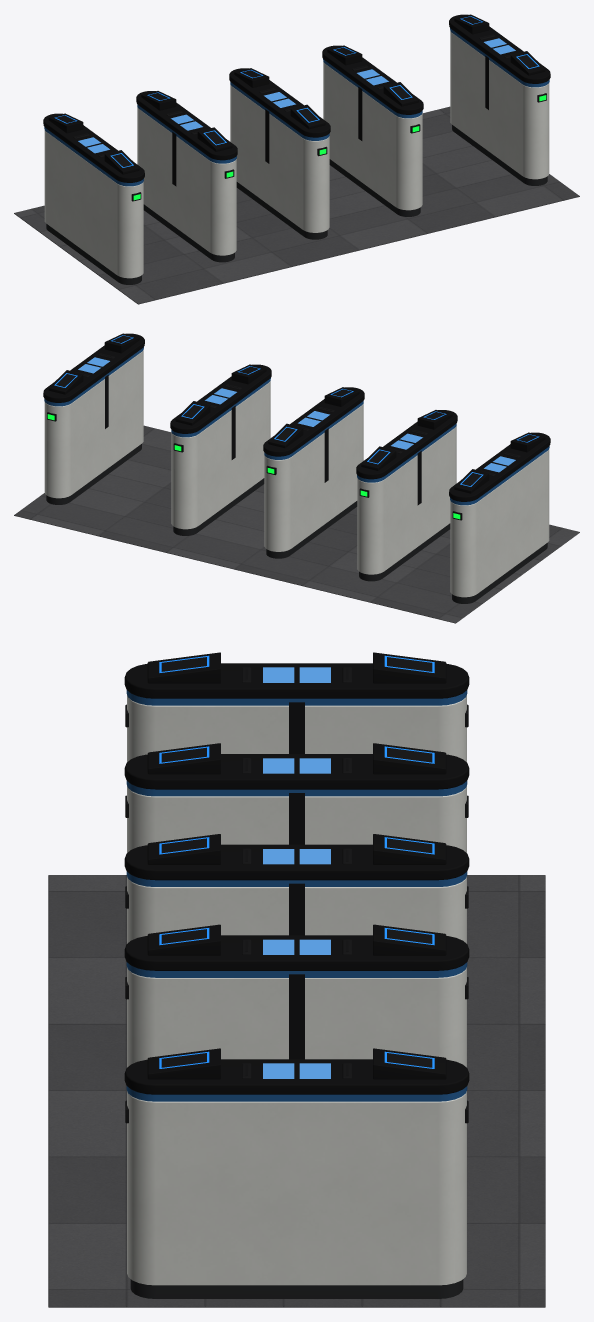
Rendered from gteki_gate_array_4w1.glb.
The picture shows the model from 3 angles, top to bottom: view 1: azimuth 30°, elevation 25°; view 2: azimuth 150°, elevation 25°; view 3: azimuth 270°, elevation 25°; orthographic projection. The views are drawn at different scales.
Parts seen in each view (by area): view 1: VIS_cabinets, VIS_floor; view 2: VIS_cabinets, VIS_floor; view 3: VIS_cabinets, VIS_floor.
Boxes of the visible parts, x1=… form: VIS_cabinets: x1=43, y1=14, x2=550, y2=284; VIS_floor: x1=14, y1=106, x2=579, y2=304; VIS_cabinets: x1=43, y1=333, x2=550, y2=603; VIS_floor: x1=14, y1=425, x2=579, y2=623; VIS_cabinets: x1=124, y1=652, x2=469, y2=1298; VIS_floor: x1=48, y1=875, x2=545, y2=1307.
Size of what is drawn, in the model's own units: 3.9 by 0.9846 by 1.9.
11 materials, 2 textured.
